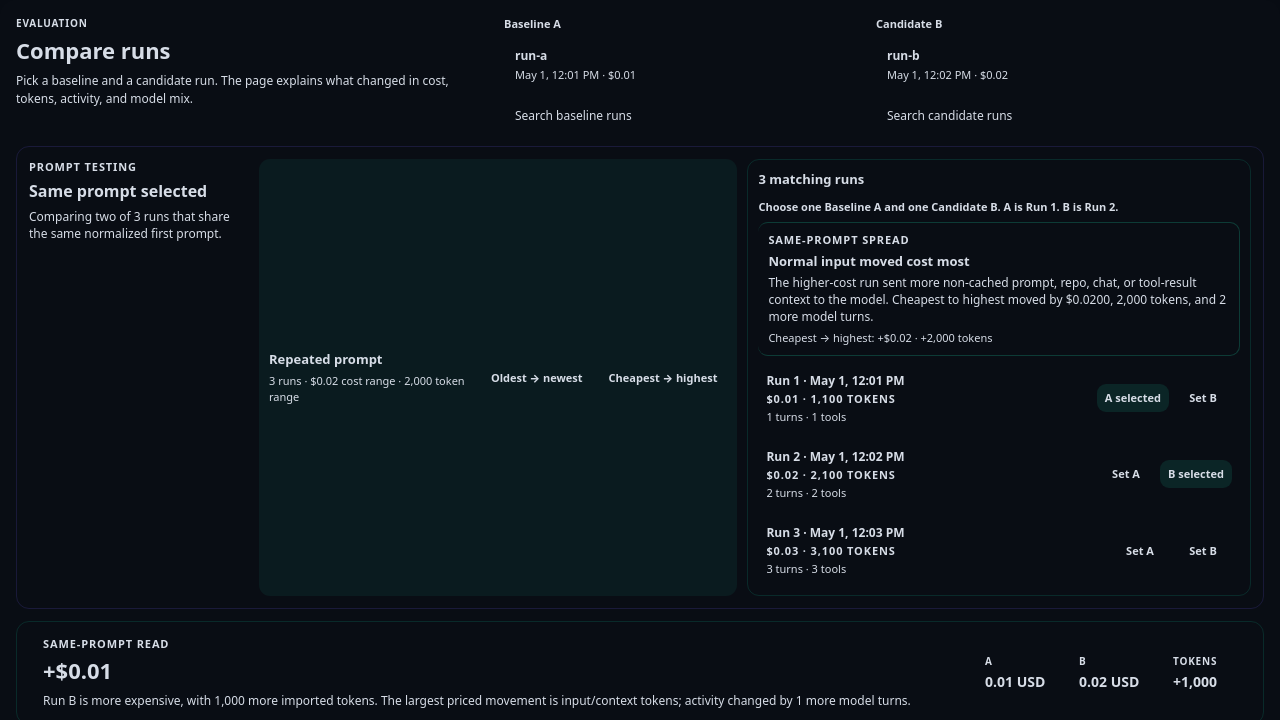
Test: ComparePageComponent › keeps baseline and candidate distinct when selecting the other side from a prompt group
Click the button "Set A" in the row of "Run 2 · May 1, 12:02 PM": (1126, 474) [1097, 460, 1155, 488]
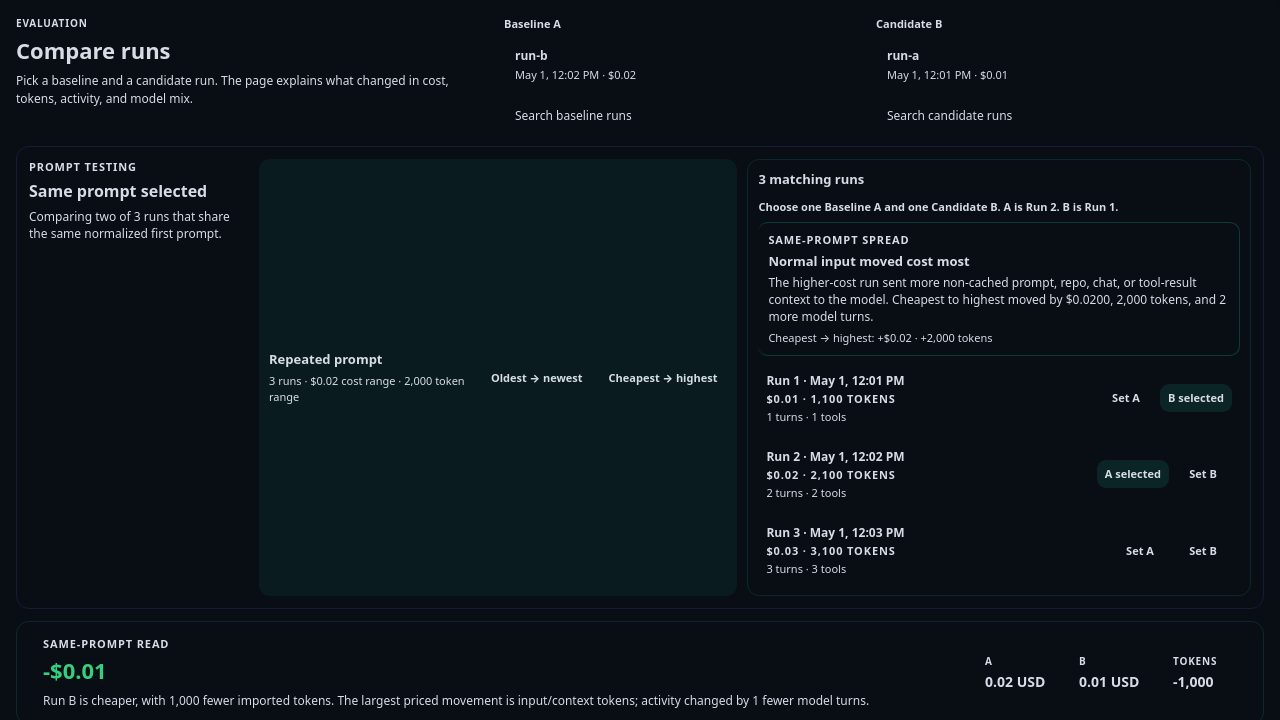
Expected: the text "run-b" is shown, [515, 47, 548, 64]
Expected: the text "A is Run 2" is shown, [1004, 198, 1062, 214]
Expected: the text "B is Run 1" is shown, [1062, 198, 1118, 214]
